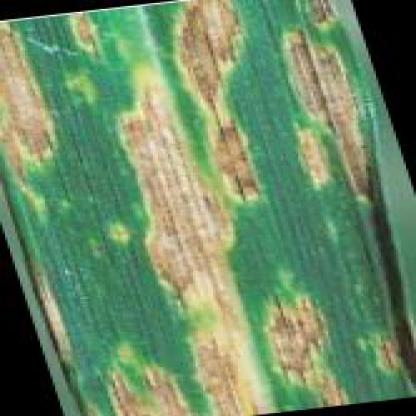wheat Stem Rust: (82, 194, 409, 394), (113, 118, 387, 184), (143, 39, 366, 106), (3, 38, 106, 176), (178, 10, 340, 34), (96, 400, 252, 412)
